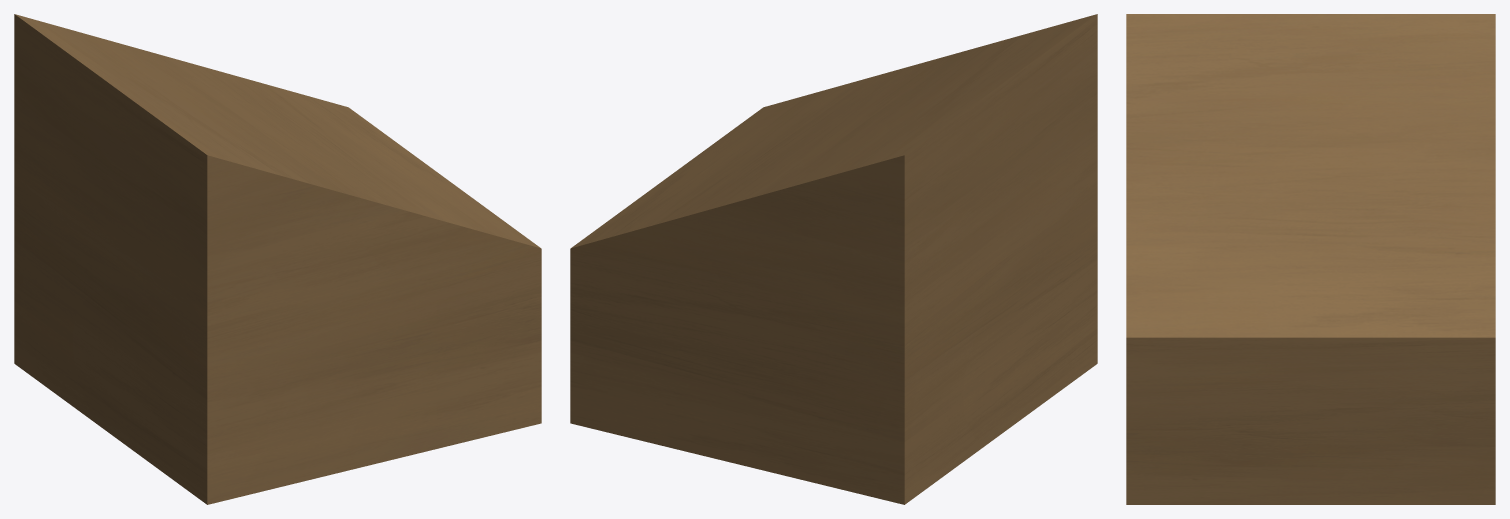
File: 2x2x1Ramp.glb
The picture shows the model from 3 angles, left to right: view 1: azimuth 30°, elevation 25°; view 2: azimuth 150°, elevation 25°; view 3: azimuth 270°, elevation 25°; orthographic projection. The views are drawn at different scales.
Visible parts, largest first — view 1: 2x2x1Ramp; view 2: 2x2x1Ramp; view 3: 2x2x1Ramp.
Part boxes in pixels (x1,y1,x2,y2): 2x2x1Ramp: [14, 14, 541, 504]; 2x2x1Ramp: [570, 14, 1097, 504]; 2x2x1Ramp: [1126, 14, 1495, 504].
Size of the model in its own units: 4 by 4 by 4.
1 material, 1 textured.
